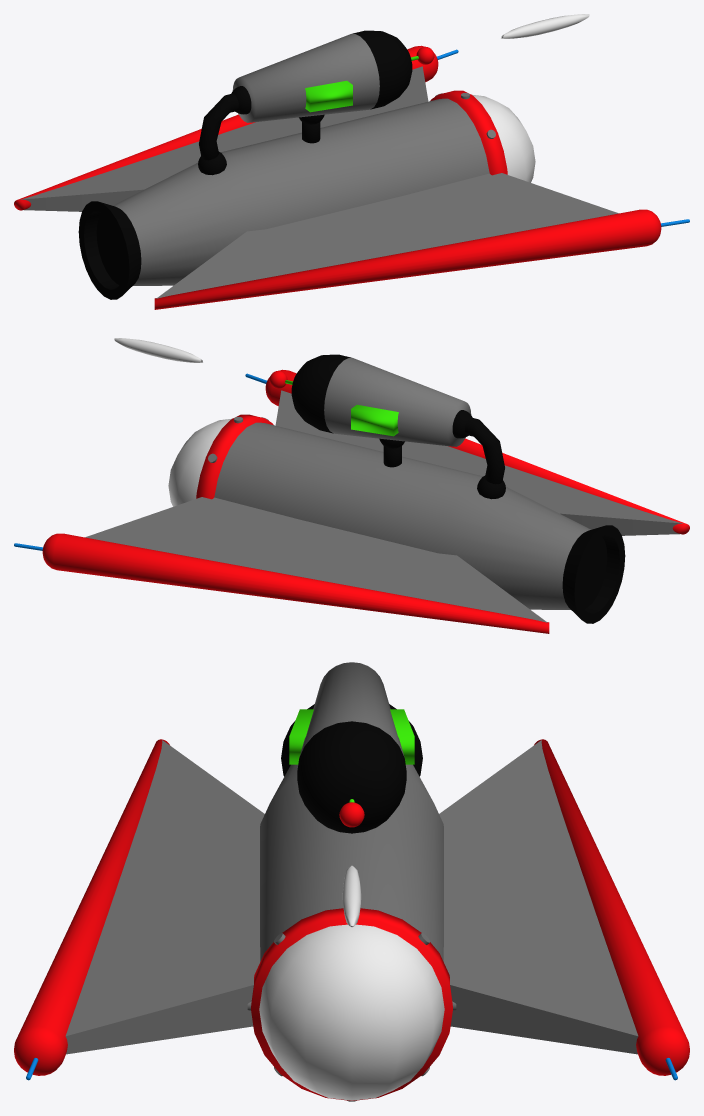
The model's file is Spaceship_rotate.fbx.
3 views of the same model, one above another, from view 1: azimuth 30°, elevation 25°; view 2: azimuth 150°, elevation 25°; view 3: azimuth 270°, elevation 25° (orthographic). The views are drawn at different scales.
Visible parts, largest first — view 1: Metalic part, Red part, Cannon, Mate Black part, Glass sphere, Green part, Shot; view 2: Metalic part, Red part, Cannon, Mate Black part, Glass sphere, Green part, Shot; view 3: Metalic part, Red part, Glass sphere, Cannon, Green part, Shot.
Boxes of the visible parts, x1,y1,x2,y2 form: Metalic part: (21, 66, 618, 299); Red part: (14, 45, 661, 309); Cannon: (232, 30, 412, 122); Mate Black part: (198, 86, 324, 175); Glass sphere: (472, 94, 535, 182); Green part: (305, 56, 418, 112); Shot: (501, 14, 589, 38); Metalic part: (85, 390, 682, 623); Red part: (42, 369, 689, 633); Cannon: (291, 354, 471, 446); Mate Black part: (379, 410, 505, 499); Glass sphere: (168, 418, 231, 506); Green part: (285, 380, 398, 436); Shot: (114, 338, 202, 362); Metalic part: (65, 704, 638, 1101); Red part: (14, 739, 689, 1100); Glass sphere: (259, 924, 444, 1100); Cannon: (297, 662, 406, 833); Green part: (289, 709, 414, 802); Shot: (342, 865, 361, 927).
Size of the model in its own units: 645 by 267 by 535.
